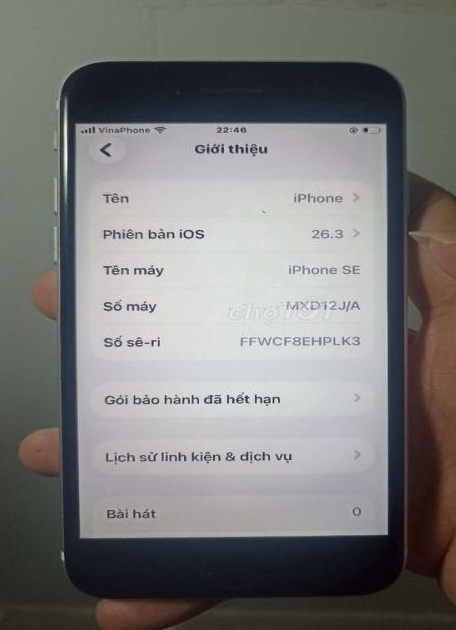scratch: (52, 89, 76, 205)
